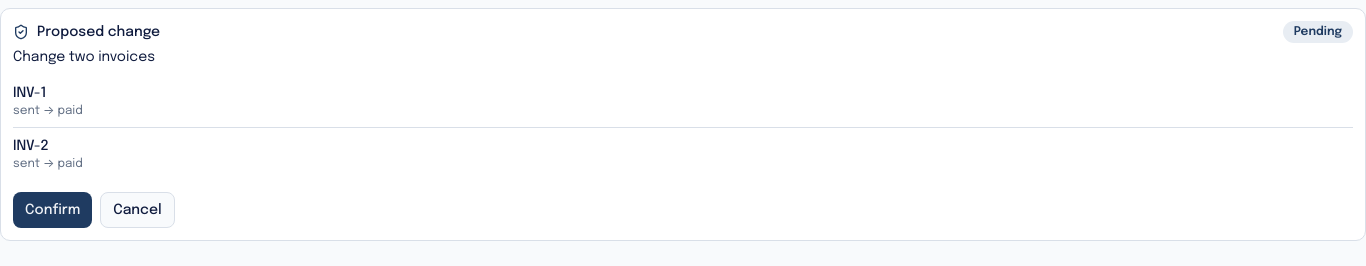
assistant confirmation boundary › keeps per-record outcomes when the server returns a partial failure
Click the button "Confirm".
click(53, 210)  # box 13,192 -> 92,228
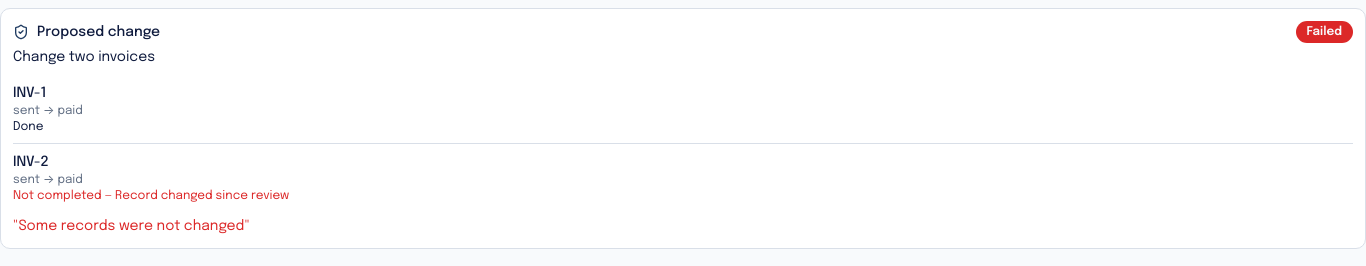
Now the text "Not completed — Record changed since review" is shown, box 13,190 -> 289,202
Now the text "Done" is shown, box 13,121 -> 44,133
Now the button "Confirm" is gone
